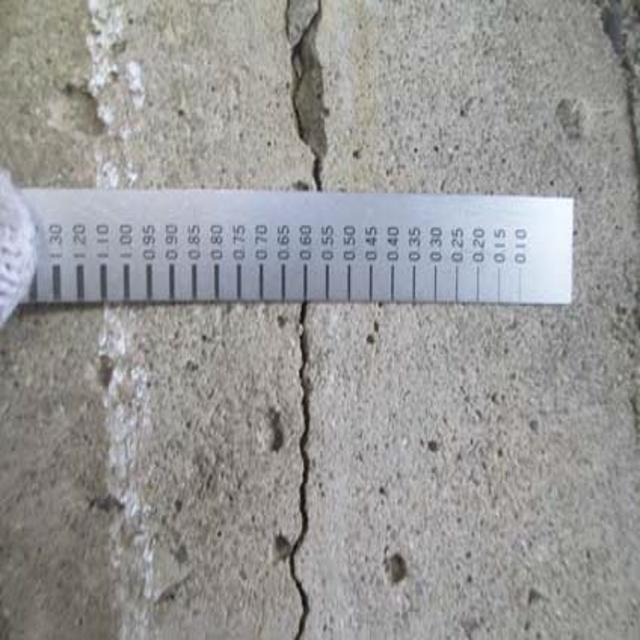crack: (265, 305, 327, 640), (270, 7, 347, 206)
